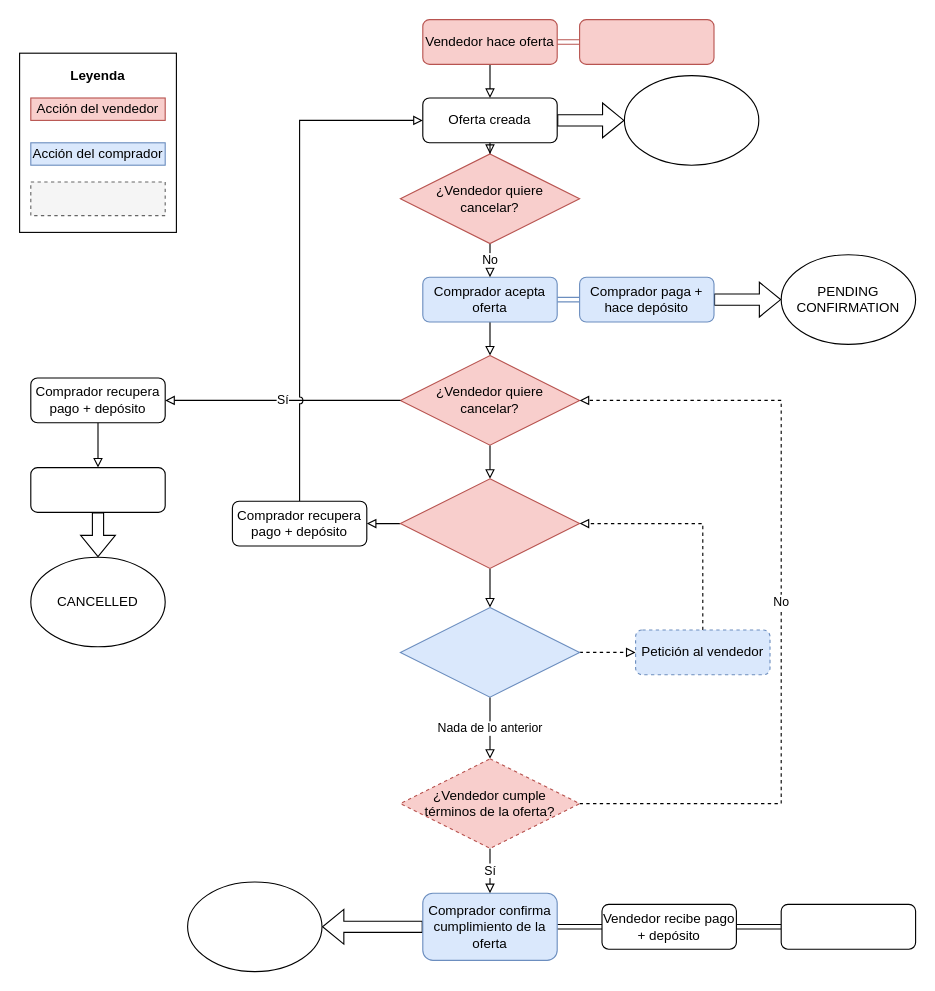
Some shapes in this 935 by 991 pixel diagram are drawn without their labels. Here are the shapes that lost their labels. From the top down, the centre of each, then its label:
At (646,41): "Vendedor hace depósito".
At (691,119): "WAITING BUYER".
At (97,198): "Fuera de la blockchain".
At (97,489): "Vendedor recupera depósito".
At (489,523): "¿Vendedor rechaza comprador?".
At (489,651): "¿Comprador quiere cancelar?".
At (254,926): "COMPLETED".
At (848,926): "Comprador recupera depósito".
